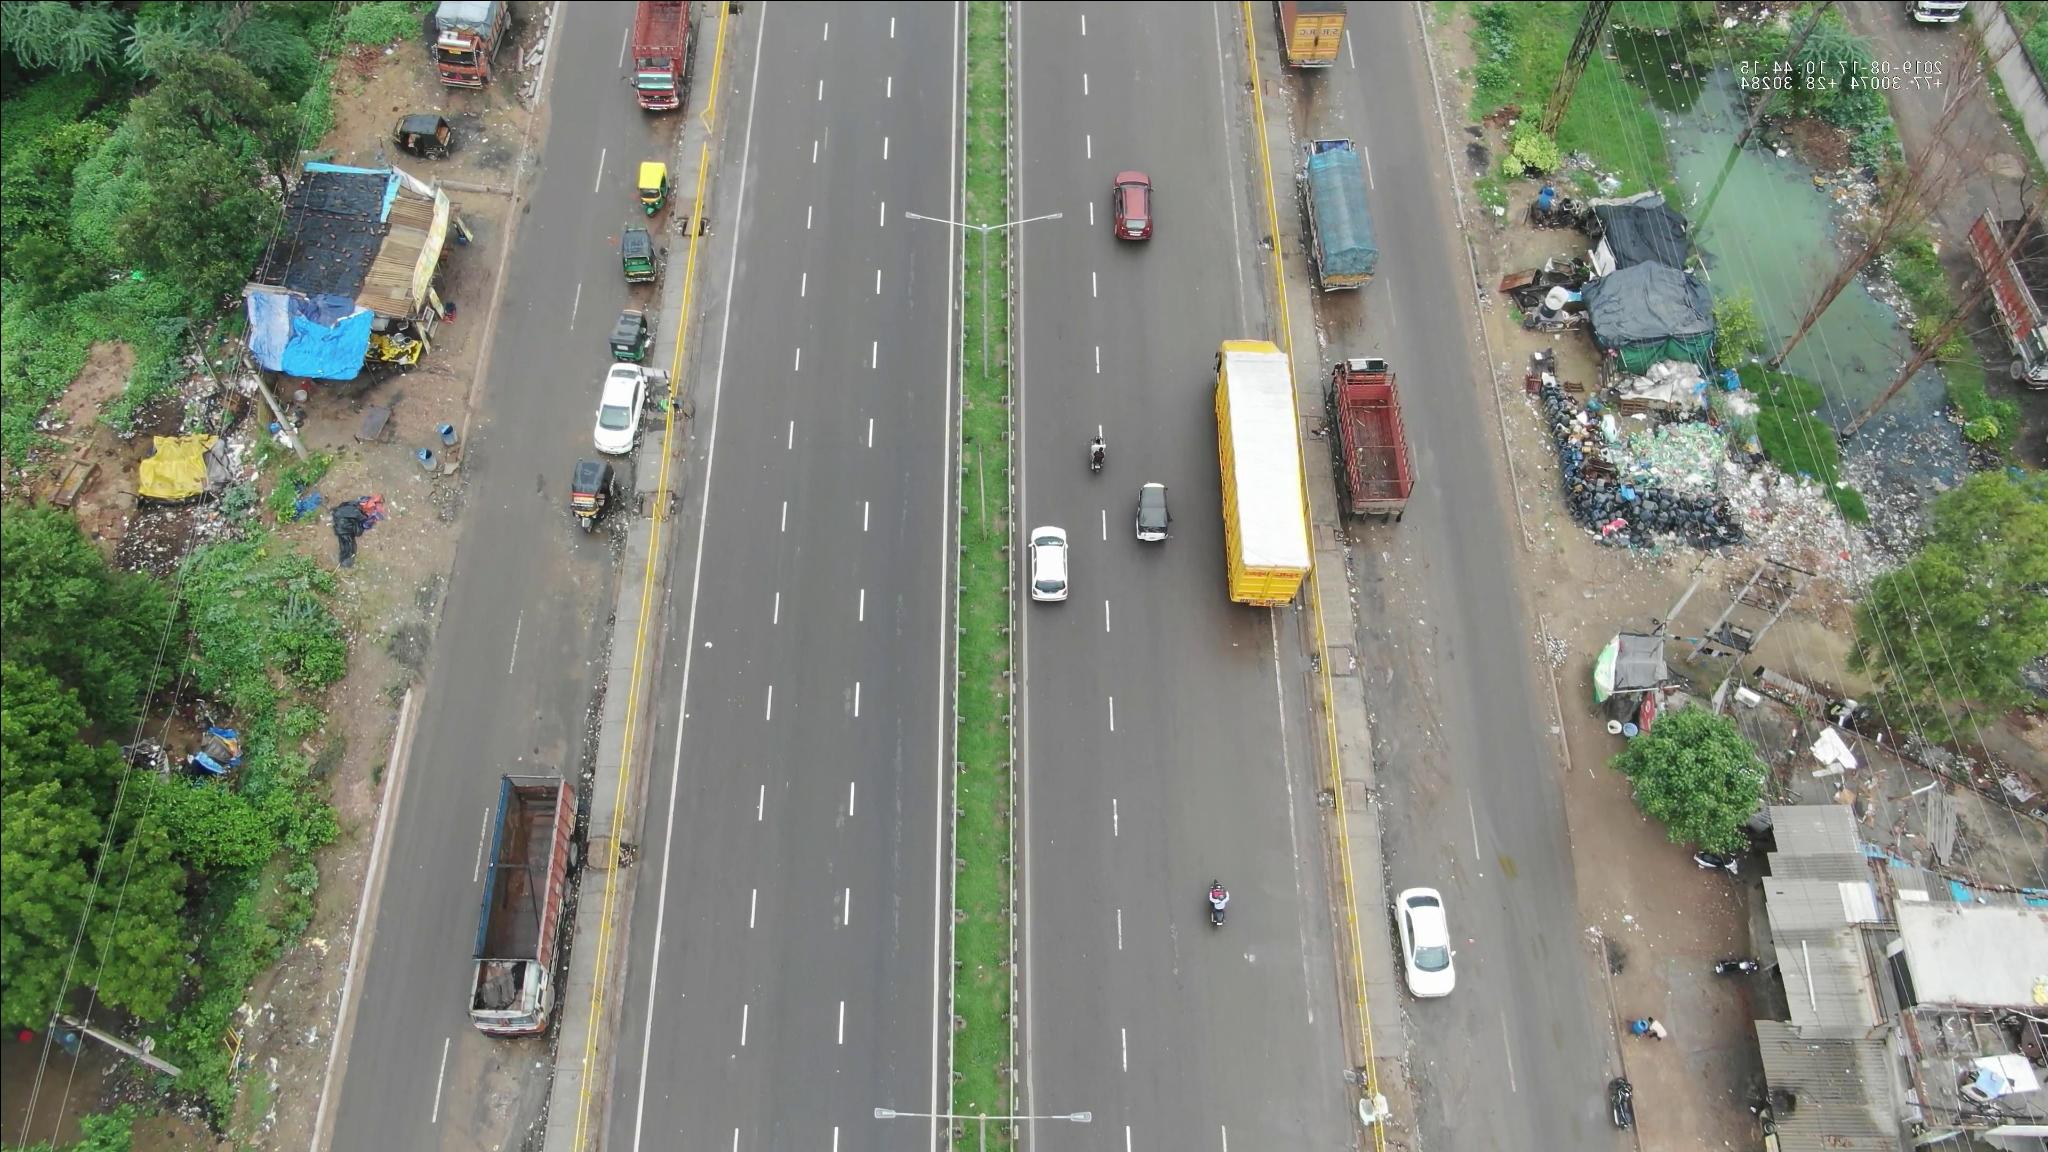Muddy_road: (1393, 629, 1454, 875)
Potholes: (882, 765, 916, 935)
